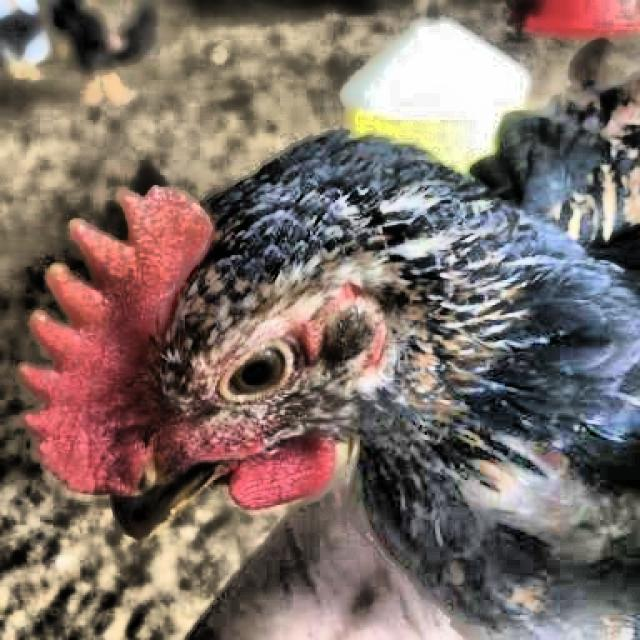Healthy: (200, 322, 320, 450)
